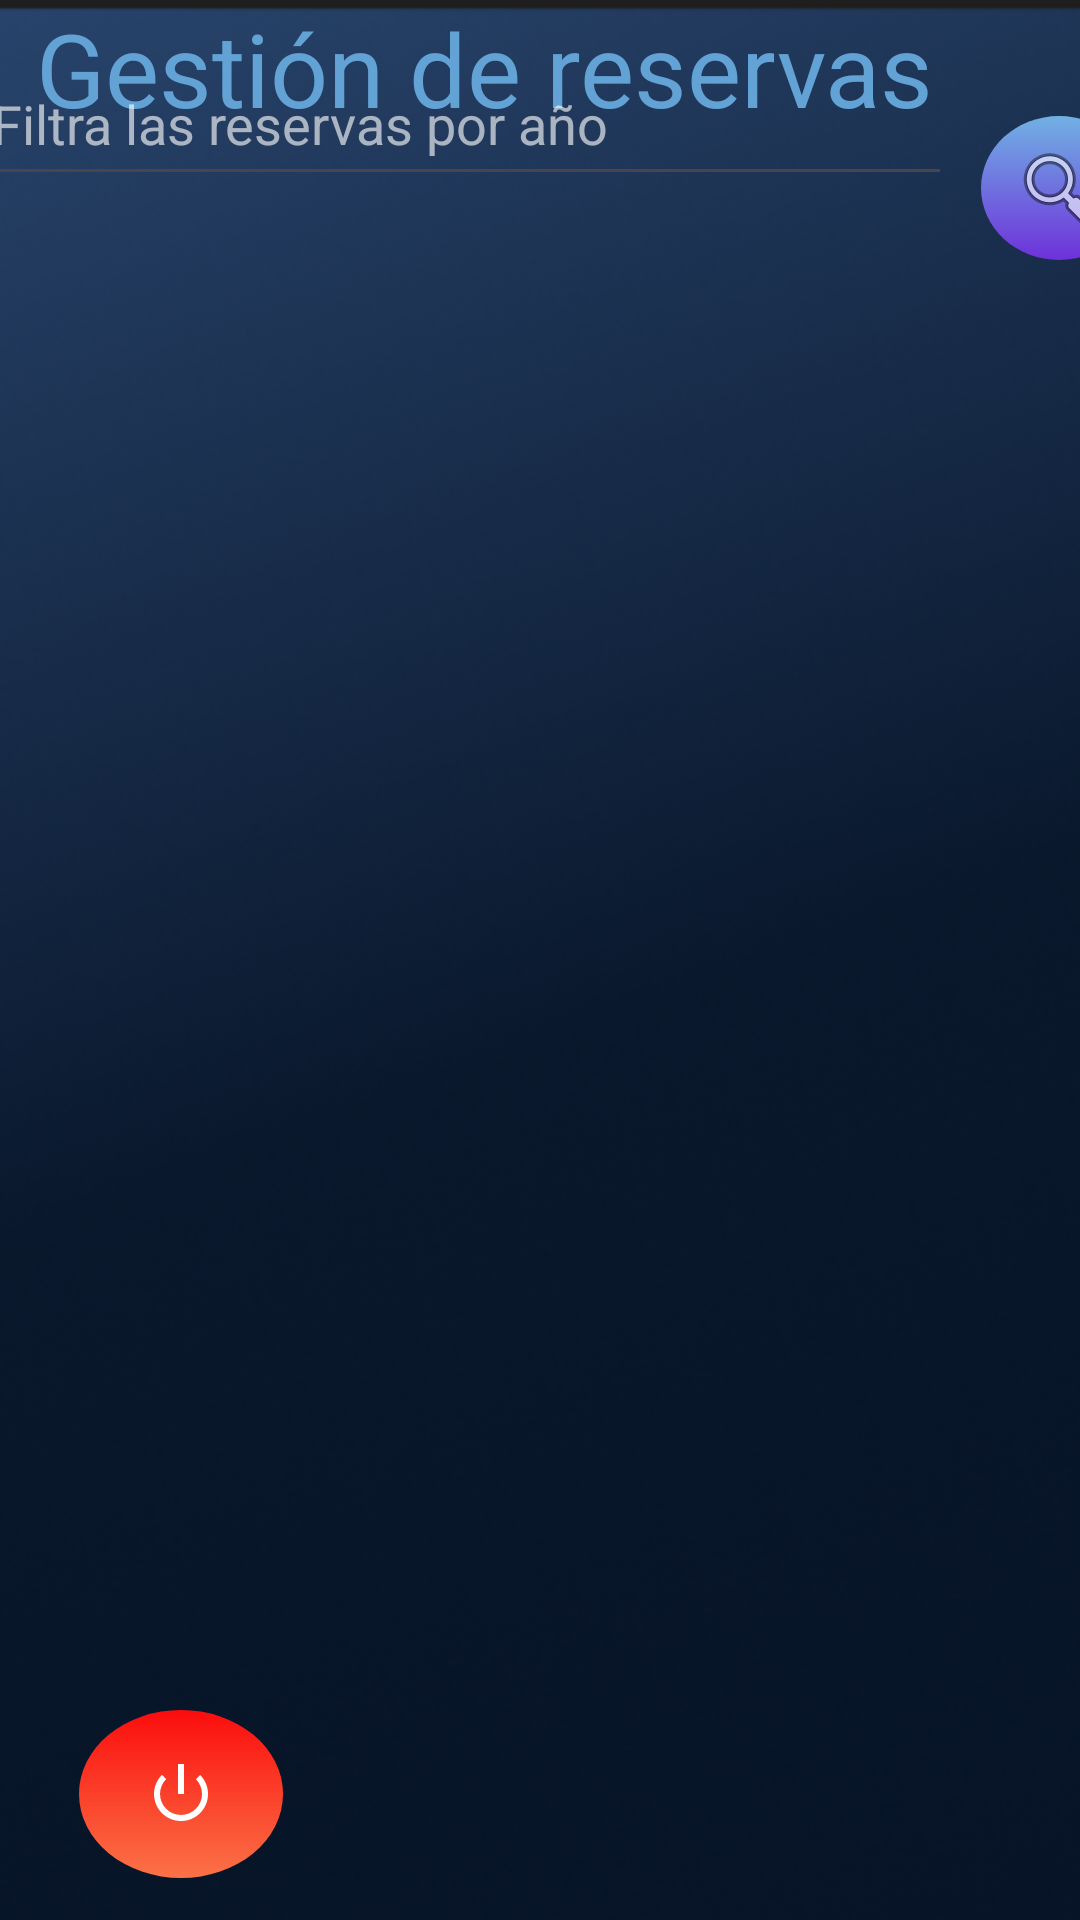

Point at icon controls on the screen. Image size 1080w x 1920h, points as (x=x, y=y).
lock power off: (x=181, y=1794)
